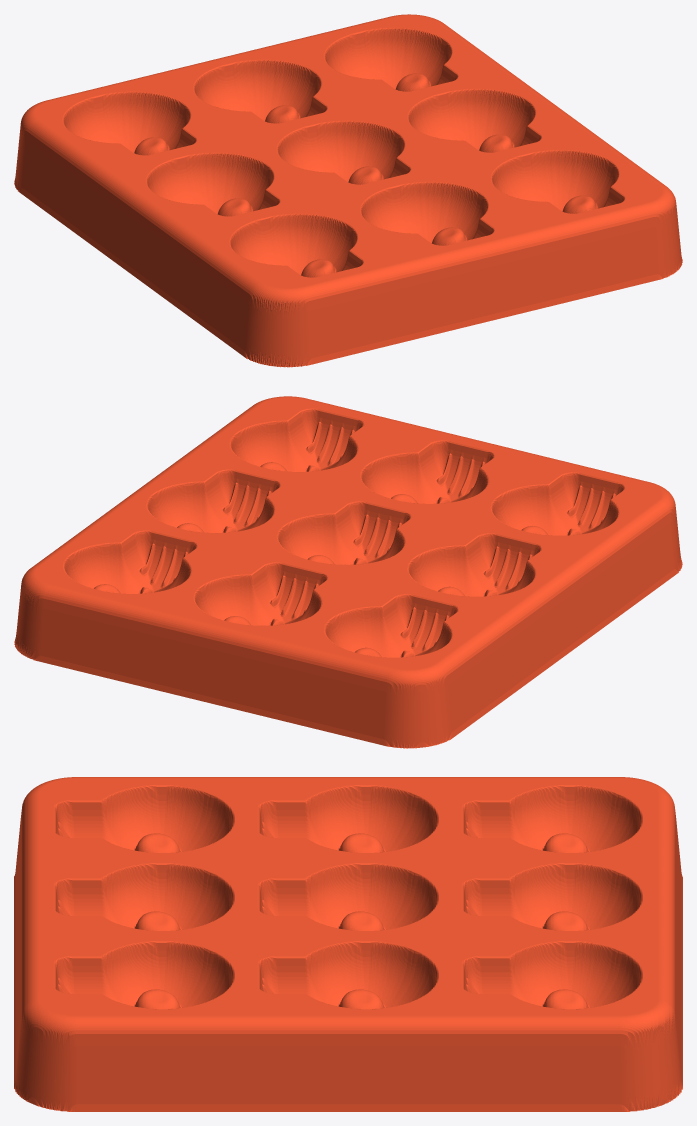
File: mold.glb
3 views of the same model, one above another, from view 1: azimuth 30°, elevation 25°; view 2: azimuth 150°, elevation 25°; view 3: azimuth 270°, elevation 25° (orthographic). The views are drawn at different scales.
Visible parts, largest first — view 1: geometry_0; view 2: geometry_0; view 3: geometry_0.
Boxes of the visible parts, x1,y1,x2,y2 form: geometry_0: (14, 14, 682, 367); geometry_0: (14, 396, 682, 748); geometry_0: (14, 777, 682, 1111).
Bounding box in the file's own units: 0.088 × 0.0136 × 0.0964.
